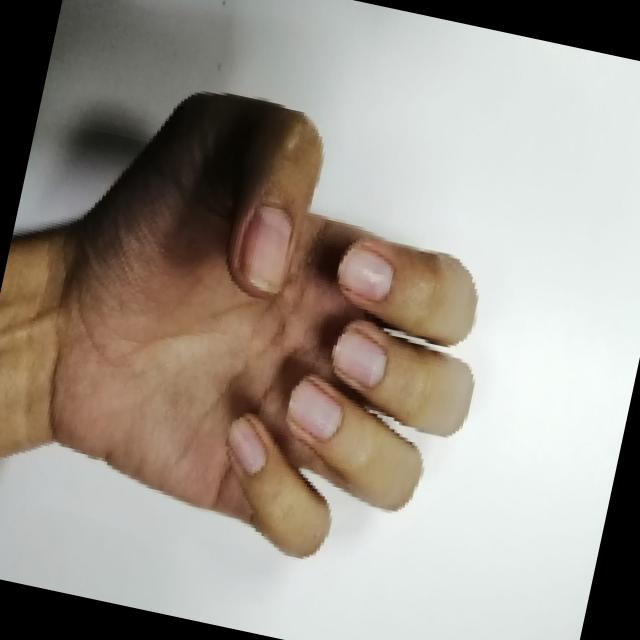Nail: (239, 204, 290, 293), (287, 379, 341, 440), (336, 246, 391, 301), (331, 334, 384, 387), (227, 418, 265, 474)
